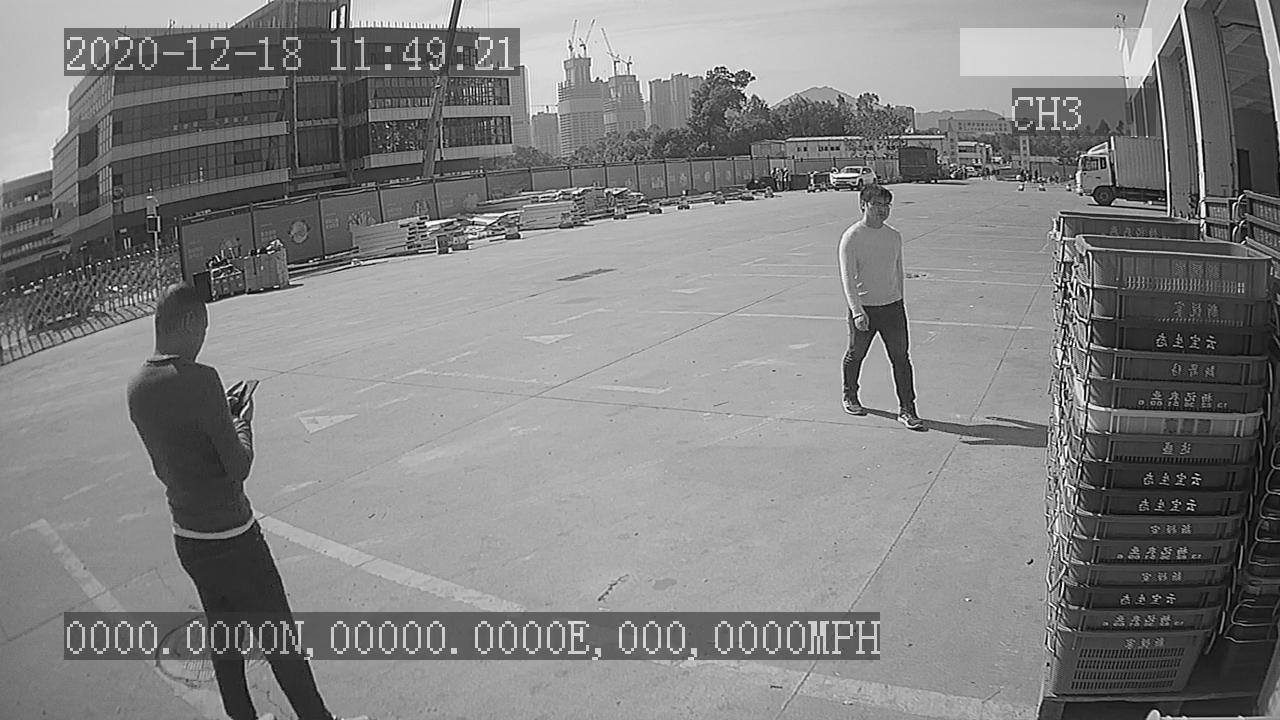person: (831, 183, 927, 435)
